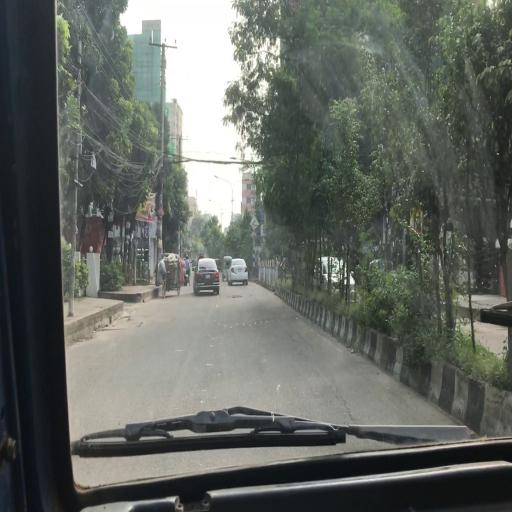car: (314, 256, 359, 303), (194, 257, 221, 294), (230, 258, 249, 284)
motorbike: (186, 270, 191, 285)
three wheelers (CNG): (223, 256, 233, 281)
